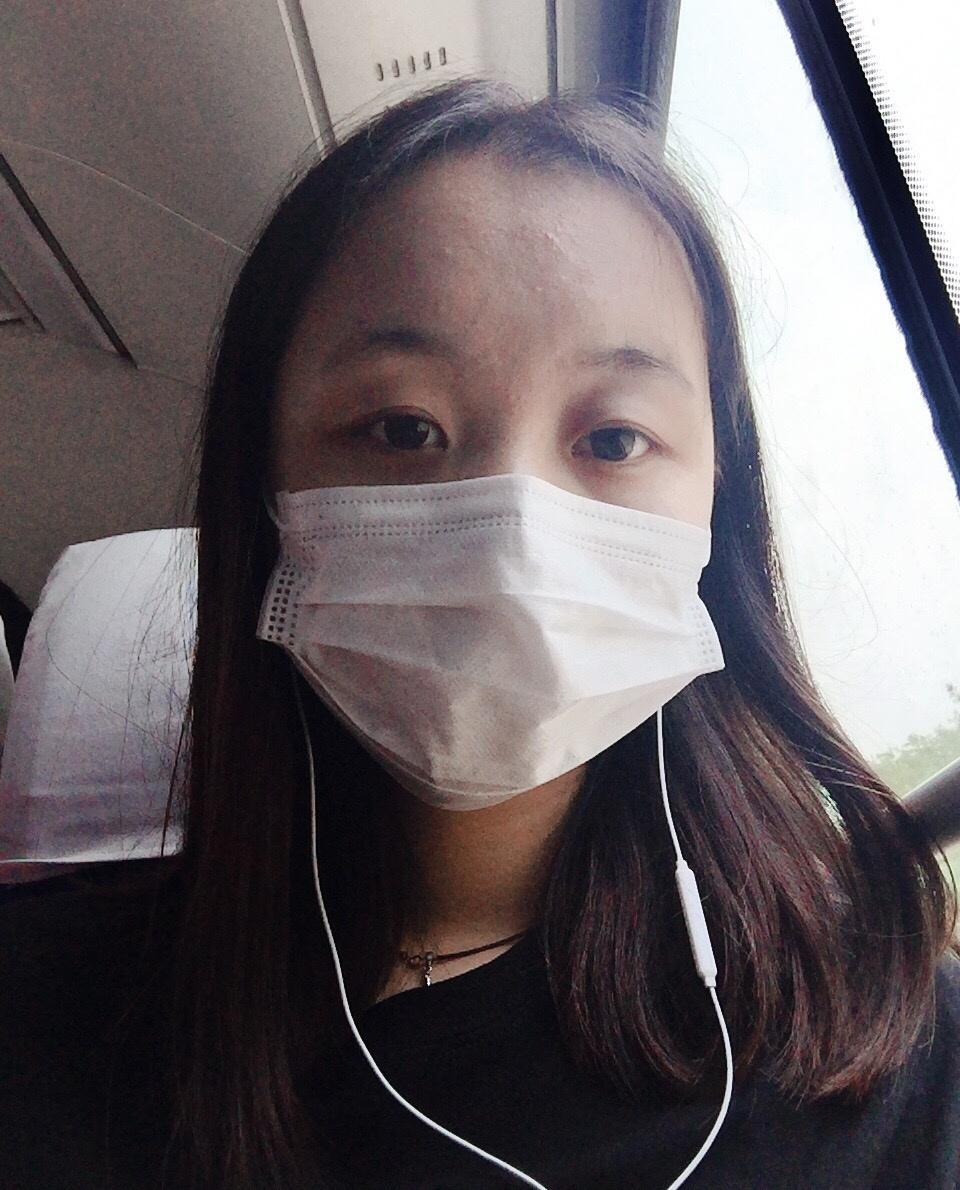OK: (274, 293, 719, 785)
